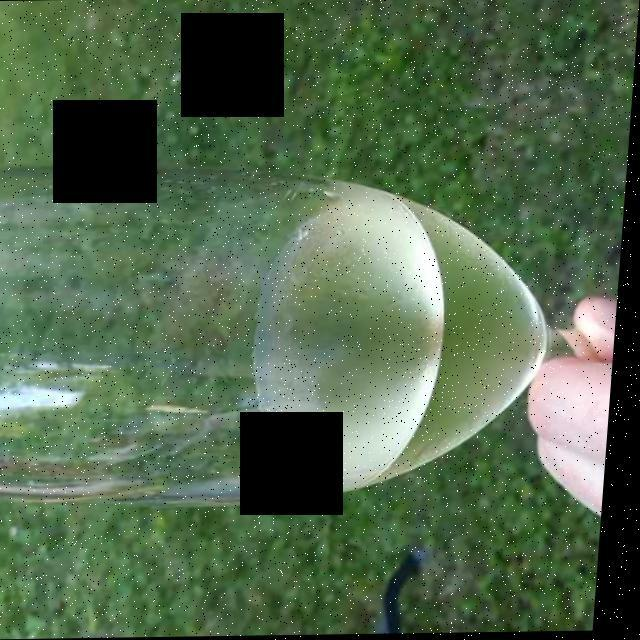wine: (260, 192, 556, 480)
